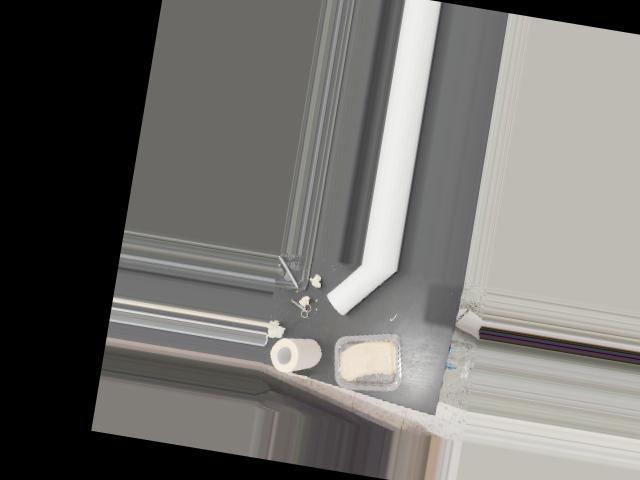cheese: (329, 327, 409, 392)
